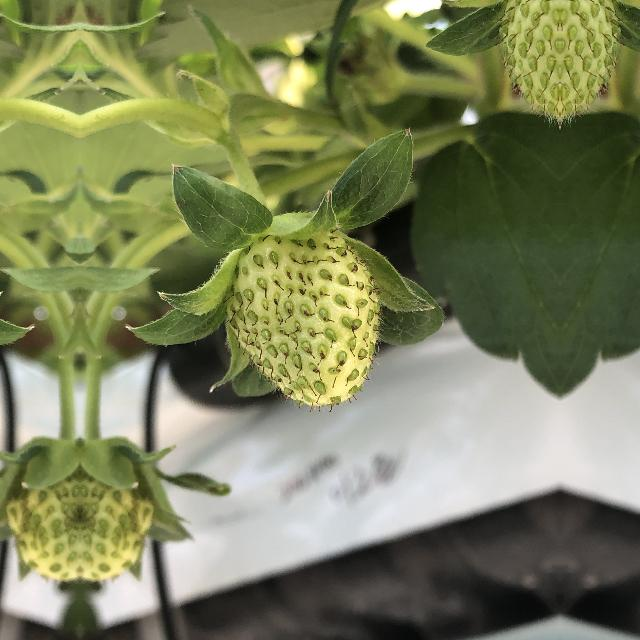Health_25: (228, 218, 388, 412)
